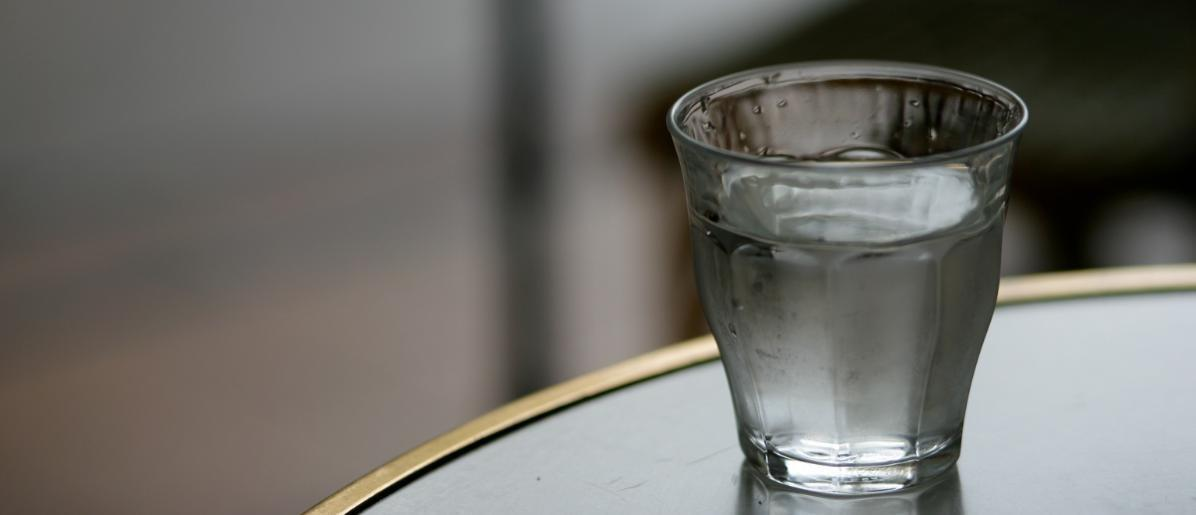glass-normal: (664, 55, 1032, 500)
